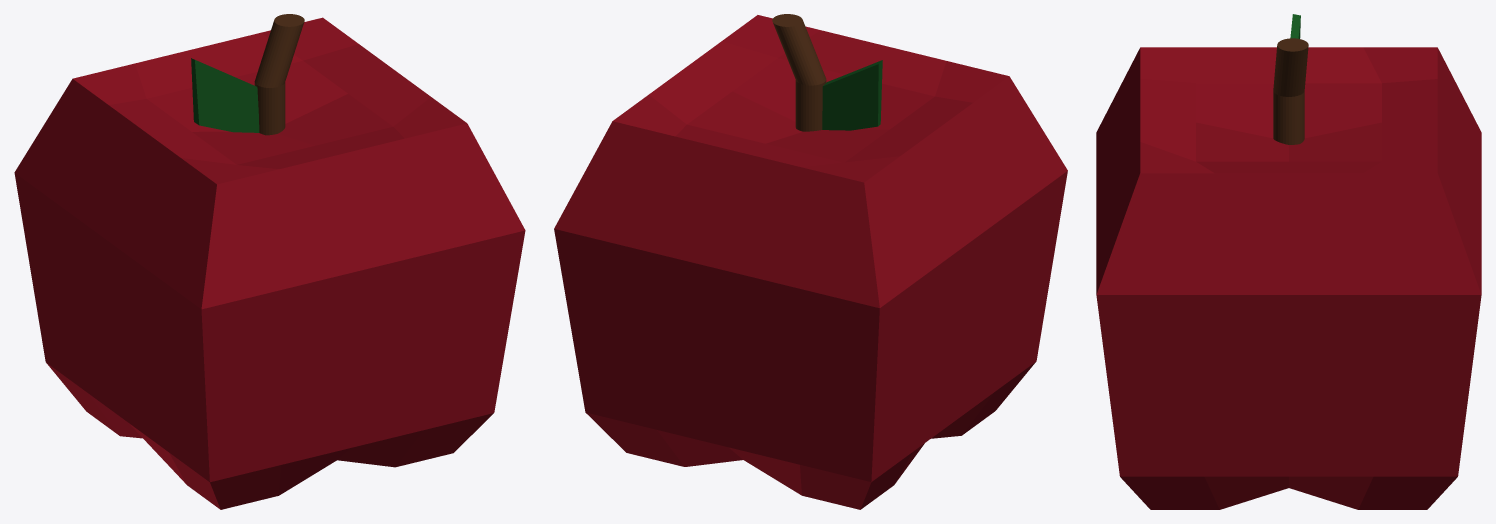
Rendered from Apple.fbx.
The picture shows the model from 3 angles, left to right: view 1: azimuth 30°, elevation 25°; view 2: azimuth 150°, elevation 25°; view 3: azimuth 270°, elevation 25°; orthographic projection. The views are drawn at different scales.
Parts seen in each view (by area): view 1: Apple, Leaf, Stem; view 2: Apple, Stem, Leaf; view 3: Apple, Stem.
Boxes of the visible parts, left/top/right/bottom form: Apple: left=14, top=17, right=525, bottom=509; Leaf: left=191, top=58, right=259, bottom=132; Stem: left=254, top=14, right=304, bottom=135; Apple: left=554, top=15, right=1067, bottom=509; Stem: left=772, top=14, right=826, bottom=131; Leaf: left=822, top=60, right=882, bottom=130; Apple: left=1096, top=47, right=1481, bottom=509; Stem: left=1273, top=38, right=1308, bottom=144.
Size of the model in its own units: 112 by 133 by 112.
